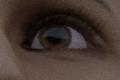eye: (41, 24, 71, 49)
